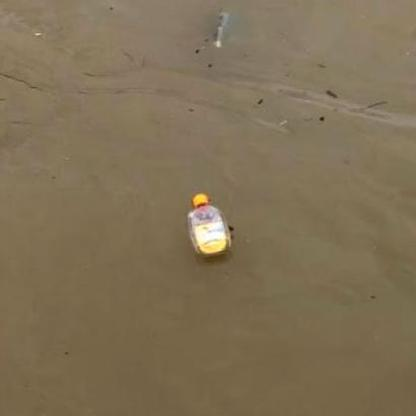plastic bottle: (186, 194, 231, 257)
